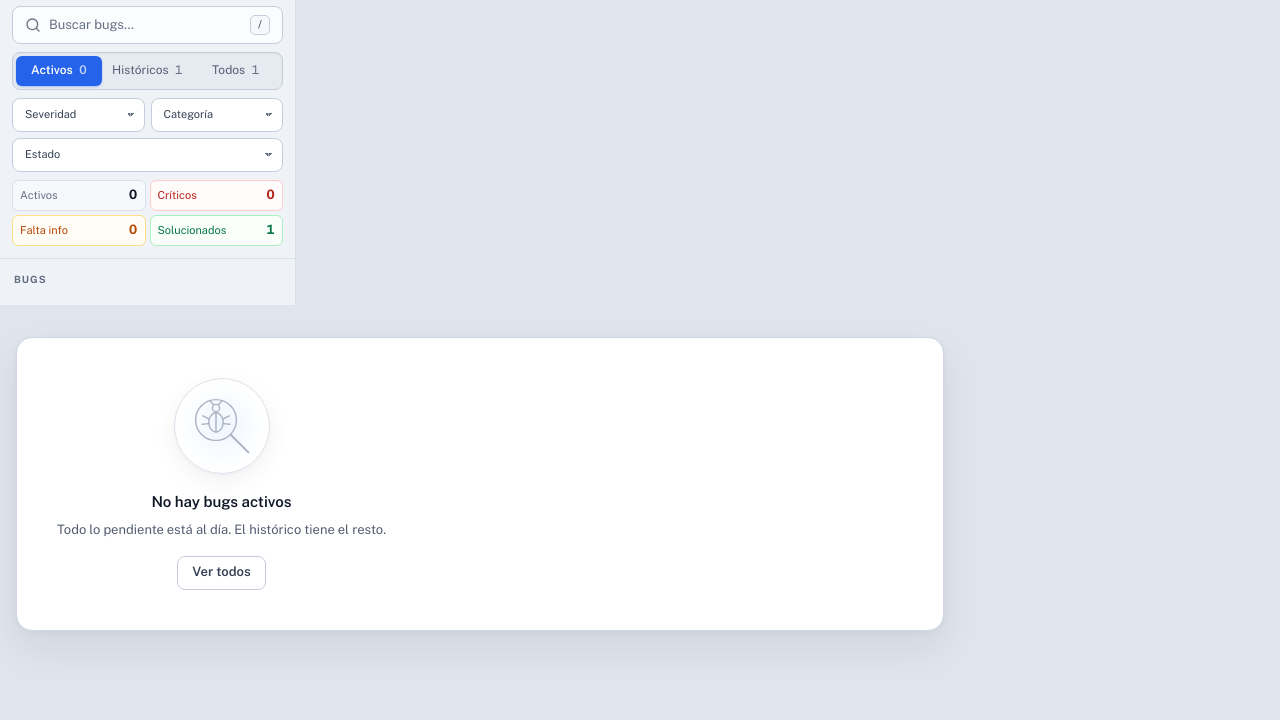
BugsScreen — estados › el selector de estado muestra el estado actual
// 'solucionado' es histórico → no se ve en la pestaña por defecto.
Click the tab "Todos 1" at (236, 71), box [193,56,279,86]
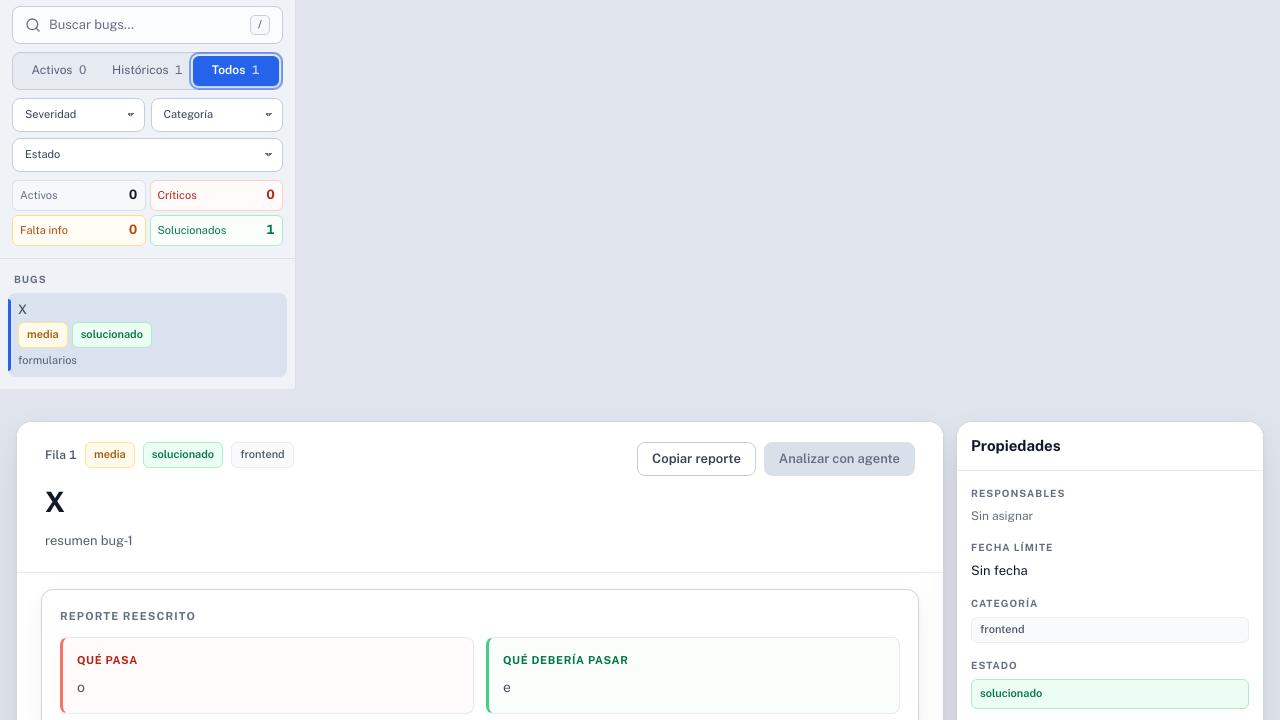
Expected: the dropdown named "estado del bug" shows "solucionado", [971,679,1249,709]
